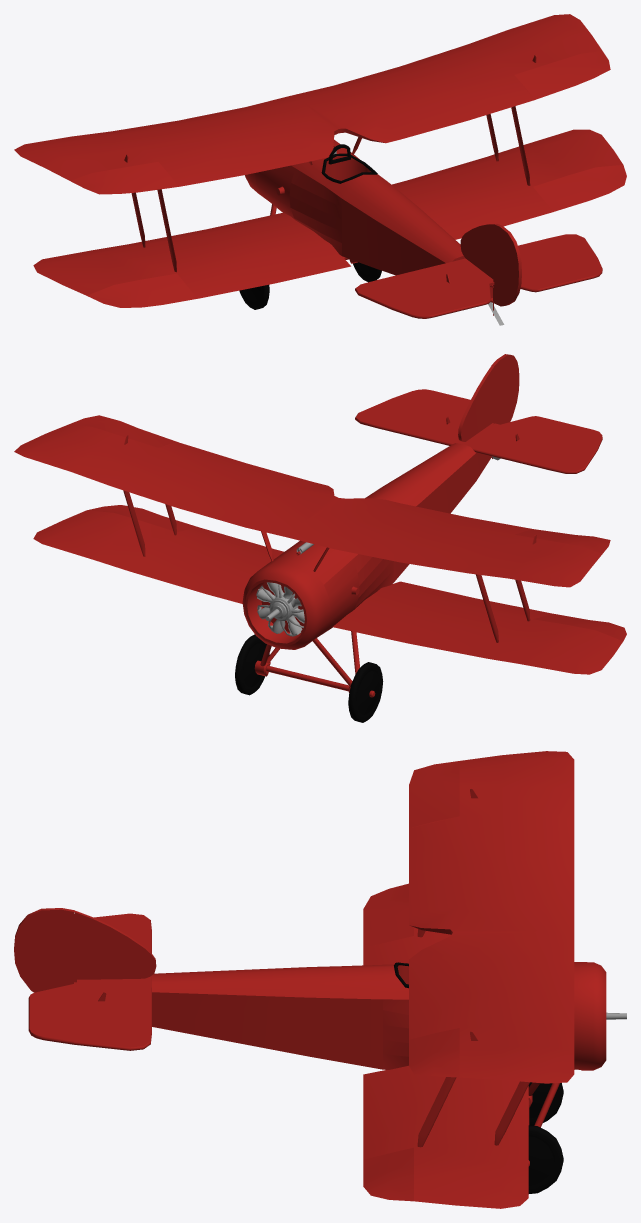
The picture shows the model from 3 angles, top to bottom: view 1: azimuth 30°, elevation 25°; view 2: azimuth 150°, elevation 25°; view 3: azimuth 270°, elevation 25°; orthographic projection. The views are drawn at different scales.
Parts seen in each view (by area): view 1: Sopwith pup; view 2: Sopwith pup; view 3: Sopwith pup.
Boxes of the visible parts, x1=… form: Sopwith pup: x1=14, y1=14, x2=626, y2=325; Sopwith pup: x1=14, y1=354, x2=626, y2=722; Sopwith pup: x1=14, y1=751, x2=626, y2=1208.
Bounding box in the file's own units: 8137 × 2842 × 6280.
